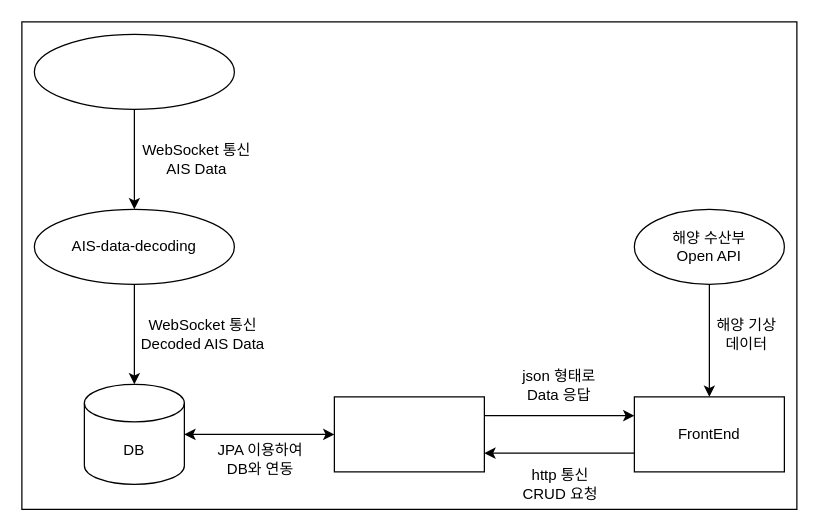
Image size: 819x531. Some labels were removed from this diagram. Each missing label, with the centre of its shape:
"BackEnd" belongs at point 408,434.
"VesselSignalProcessor" belongs at point 133,71.
